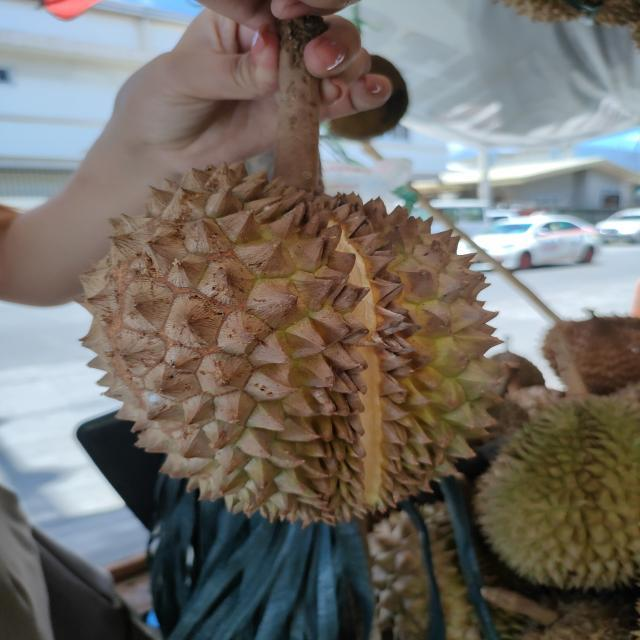defective: (85, 155, 515, 530)
